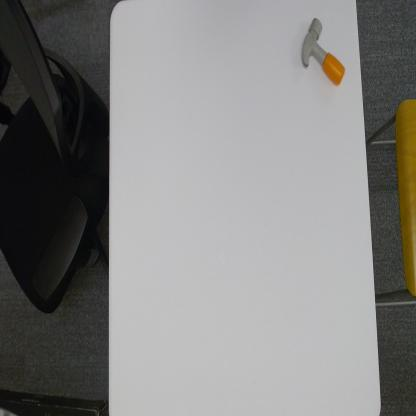Hammer: (301, 16, 346, 88)
